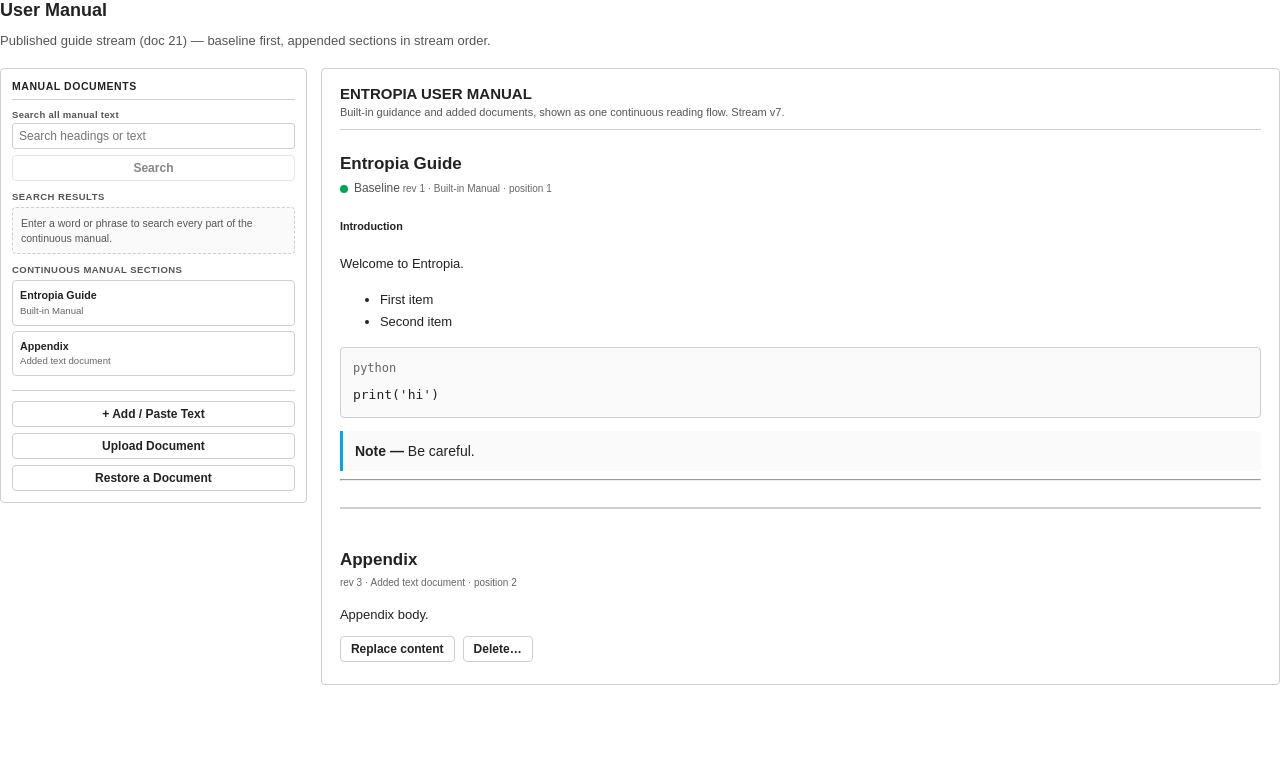
it: User Manual page › soft deletes after a two-step confirm — DELETE carries a BODY + Idempotency-Key
Expected: the text "Appendix body." is shown, 340,607 -> 429,622
Click the button "Delete…".
click(498, 649)  # box 463,636 -> 533,662
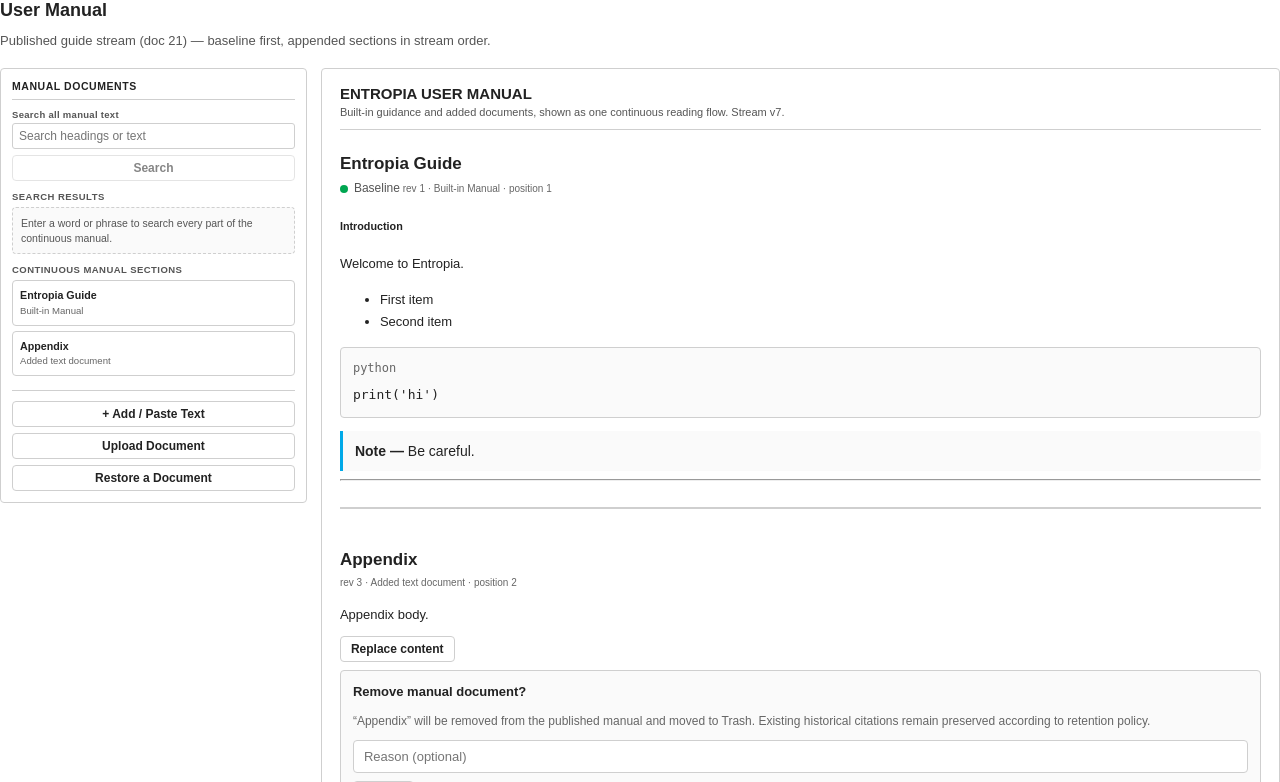
Now the text "Remove manual document?" is shown, box 353,681 -> 526,703
Now the text "“Appendix” will be removed from the published manual and moved to Trash. Existing historical citations remain preserved " is shown, box 353,714 -> 1150,728
Type "outdated" into the field named "Delete reason for Appendix".
click(800, 756); type("outdated")  # box 353,740 -> 1248,773
(page scrolled)
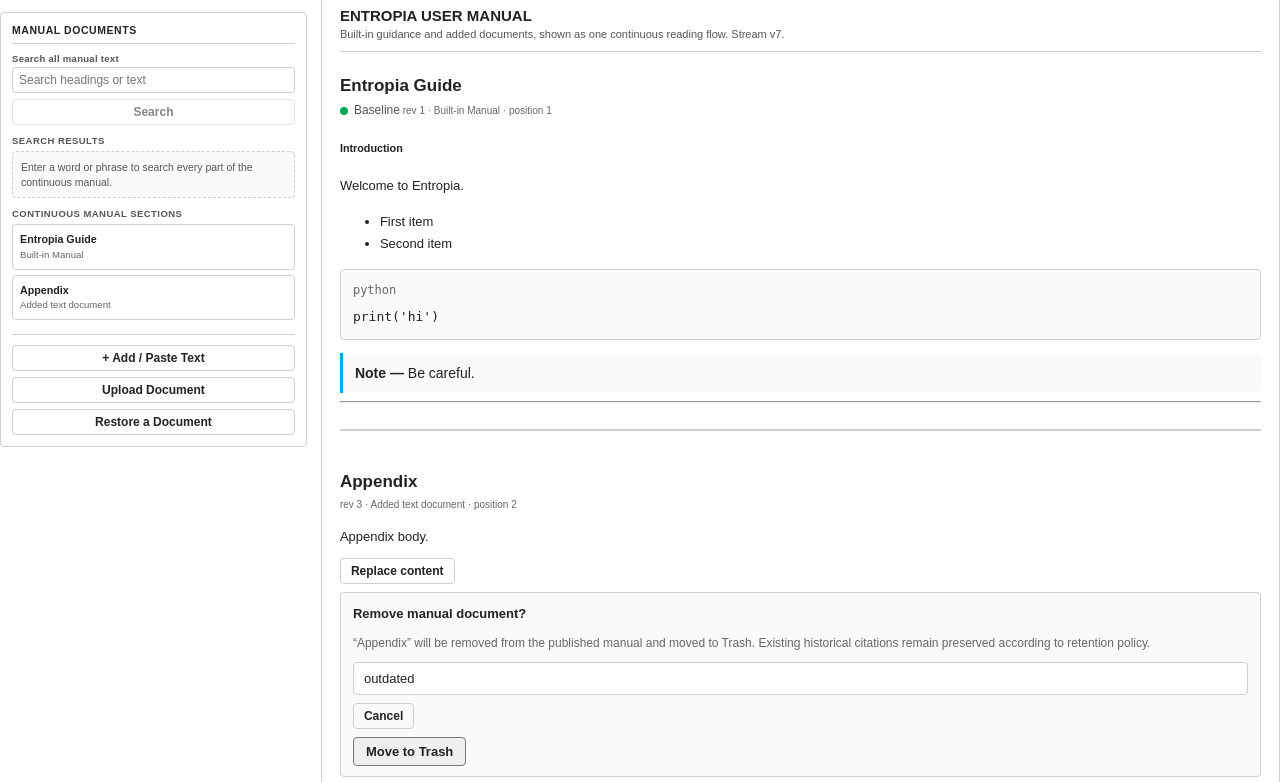
Click the button "Move to Trash".
click(410, 752)  # box 353,737 -> 466,766
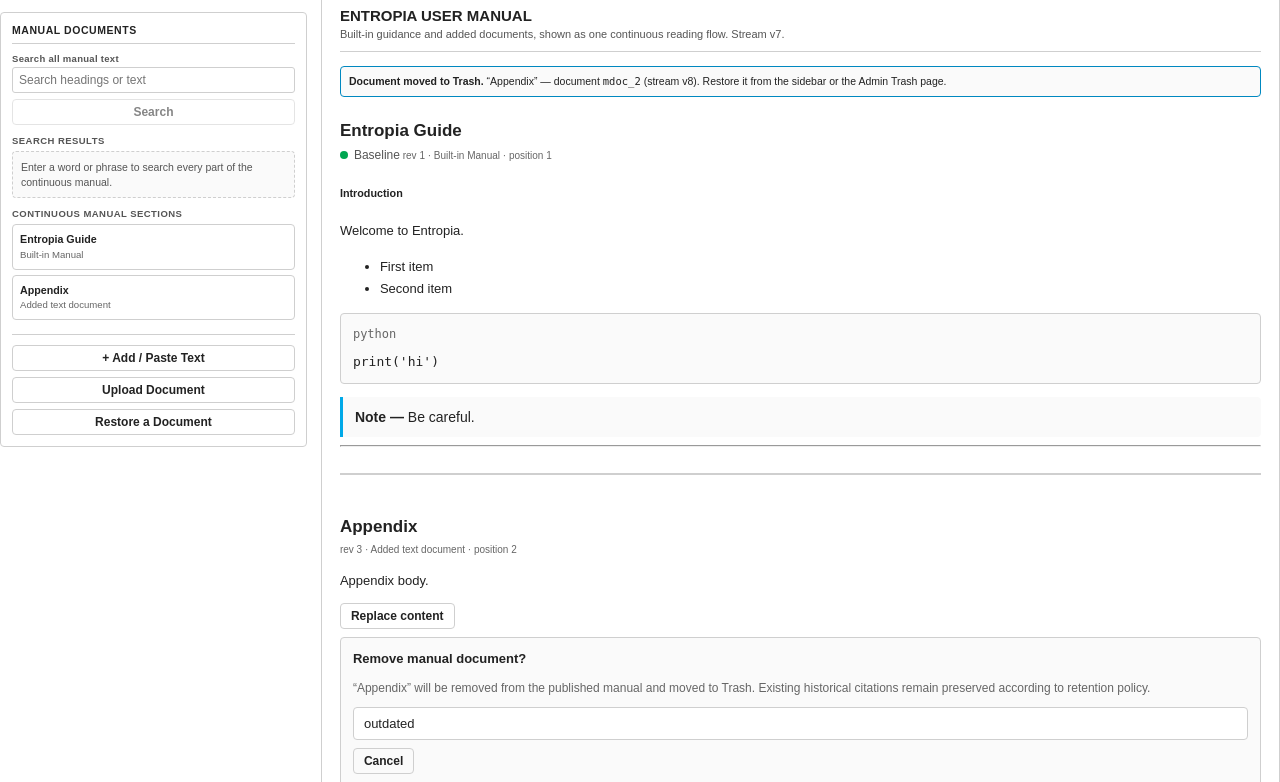
Now the text "Document moved to Trash." is shown, box 349,75 -> 484,87
Now the text "(stream v8)" is shown, box 487,75 -> 946,87
